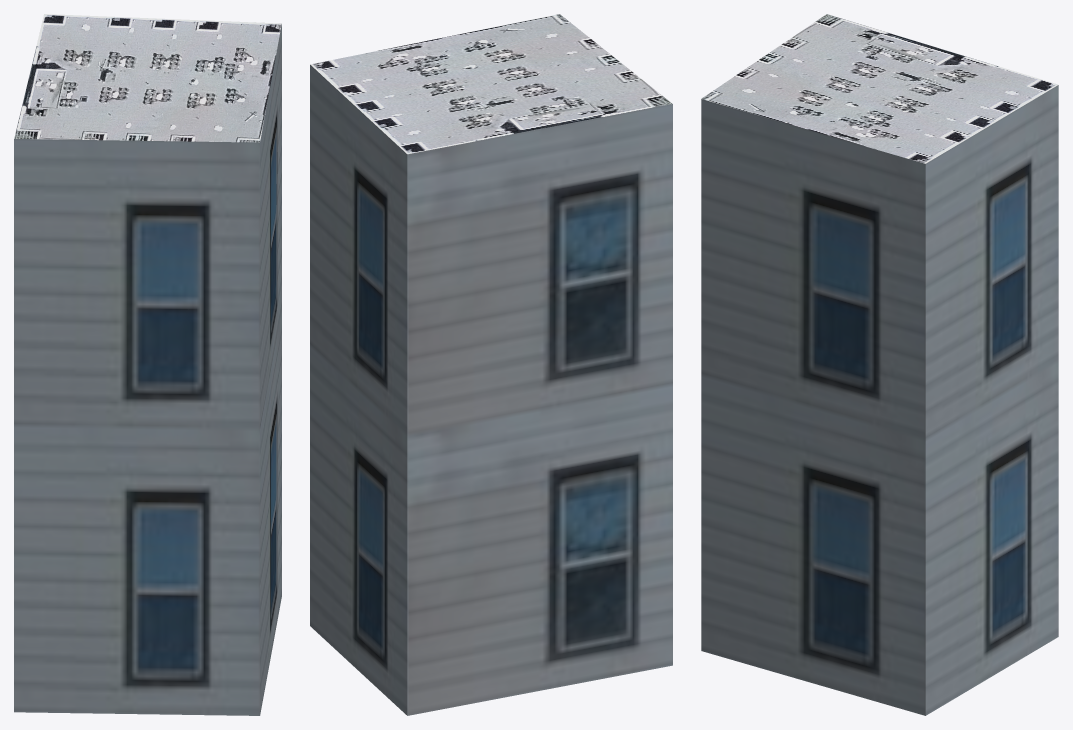
File: ResTex__3919.fbx
3 views of the same model, side by side, from view 1: azimuth 30°, elevation 25°; view 2: azimuth 150°, elevation 25°; view 3: azimuth 270°, elevation 25° (orthographic). The views are drawn at different scales.
Parts seen in each view (by area): view 1: CityEngineMaterial_18_m, CityEngineMaterial_4_m; view 2: CityEngineMaterial_18_m, CityEngineMaterial_4_m; view 3: CityEngineMaterial_18_m, CityEngineMaterial_4_m.
Part boxes in pixels (x1,y1,x2,y2): CityEngineMaterial_18_m: [14, 24, 281, 715]; CityEngineMaterial_4_m: [14, 14, 281, 142]; CityEngineMaterial_18_m: [310, 65, 672, 715]; CityEngineMaterial_4_m: [310, 14, 672, 154]; CityEngineMaterial_18_m: [701, 85, 1058, 715]; CityEngineMaterial_4_m: [701, 14, 1058, 163].
Bounding box in the file's own units: 3.49 × 6 × 3.52.
Materials: 2 (2 with a texture image).
